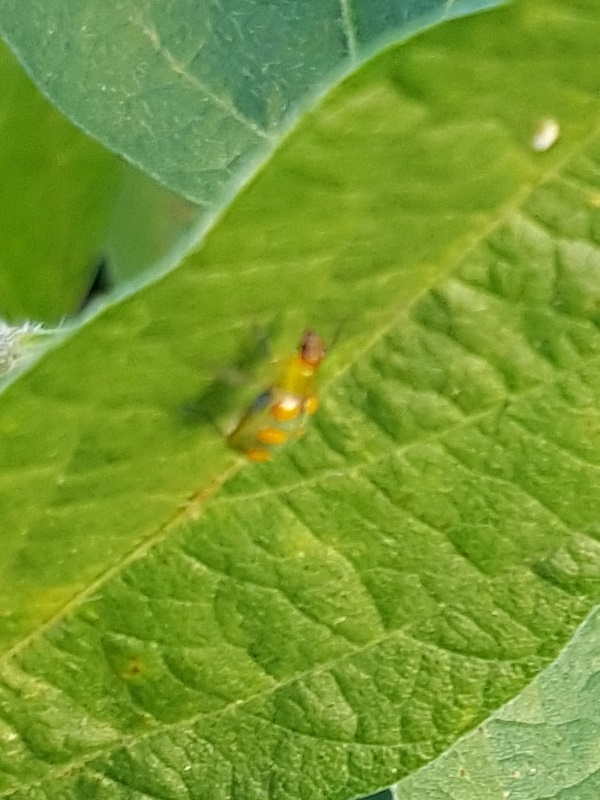Diabrotica_speciosa: (192, 311, 361, 486)
